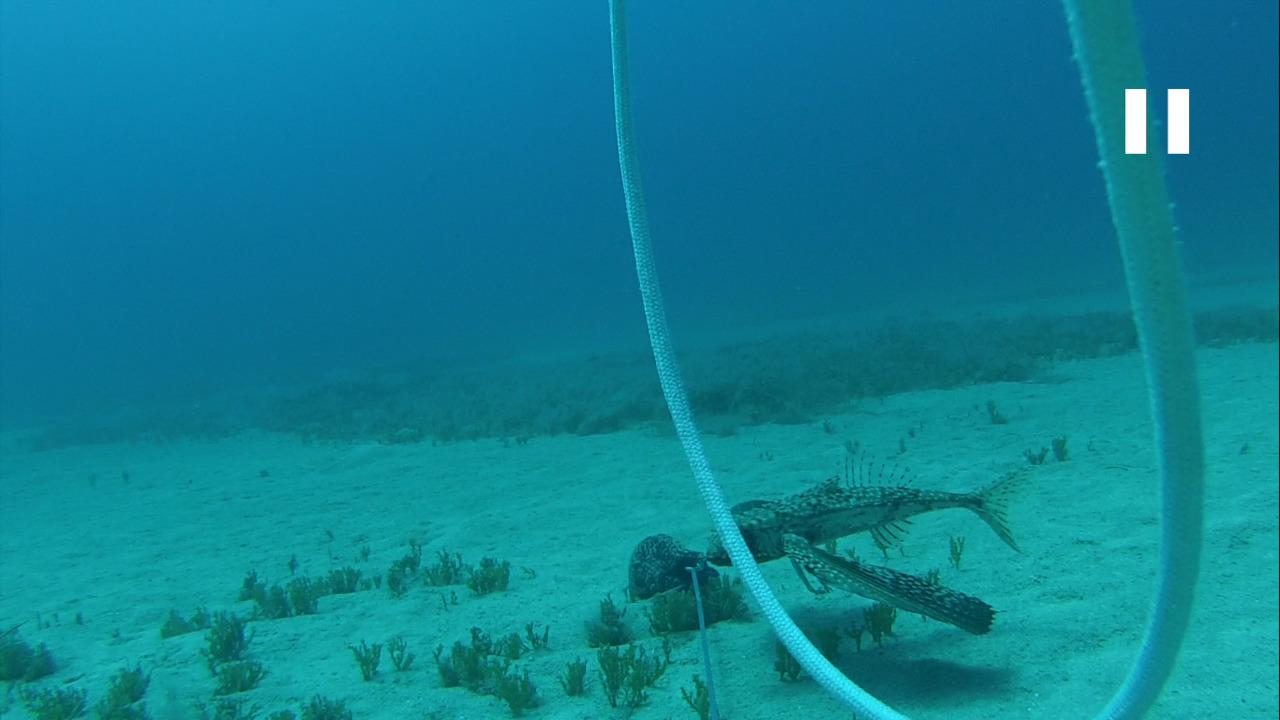dactylopterus: (714, 456, 1033, 639)
